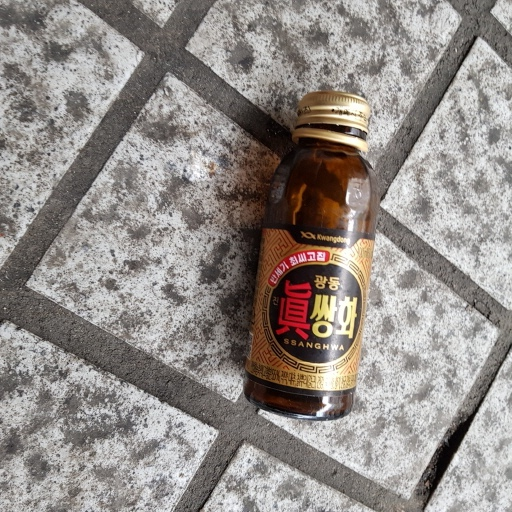Glass_3: (242, 92, 378, 422)
